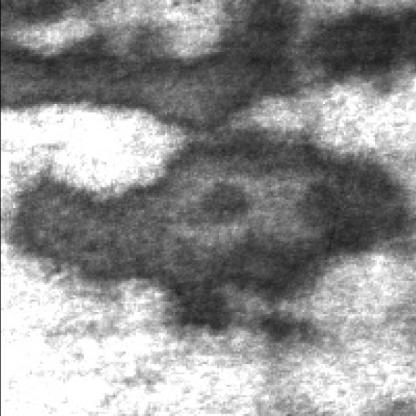patches: (14, 135, 412, 339), (4, 4, 320, 133), (301, 6, 416, 95)
